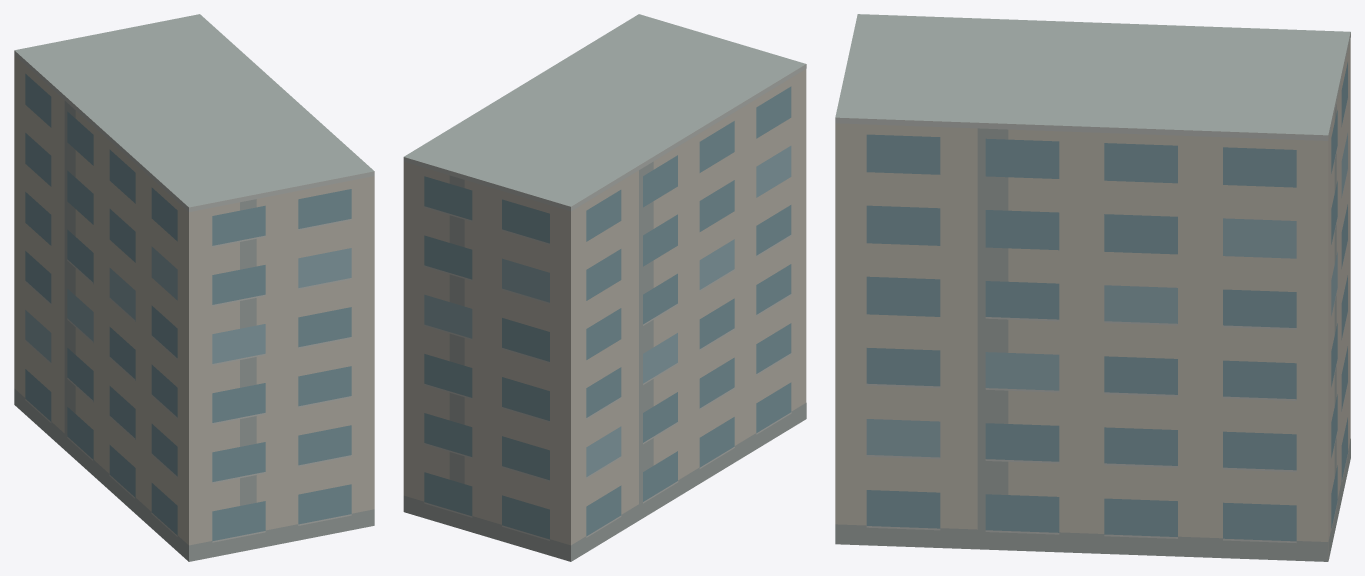
Rendered from survey-upis-32634436.glb.
3 renders of one model, left to right at view 1: azimuth 30°, elevation 25°; view 2: azimuth 150°, elevation 25°; view 3: azimuth 270°, elevation 25°, orthographic. The views are drawn at different scales.
Visible parts, largest first — view 1: survey-upis-32634436.tmp; view 2: survey-upis-32634436.tmp; view 3: survey-upis-32634436.tmp.
Part boxes in pixels (left/top/right/bottom): survey-upis-32634436.tmp: left=14, top=14, right=374, bottom=561; survey-upis-32634436.tmp: left=403, top=14, right=806, bottom=561; survey-upis-32634436.tmp: left=835, top=14, right=1350, bottom=561.
Size of the model in its own units: 11.17 by 18.3 by 20.05.
